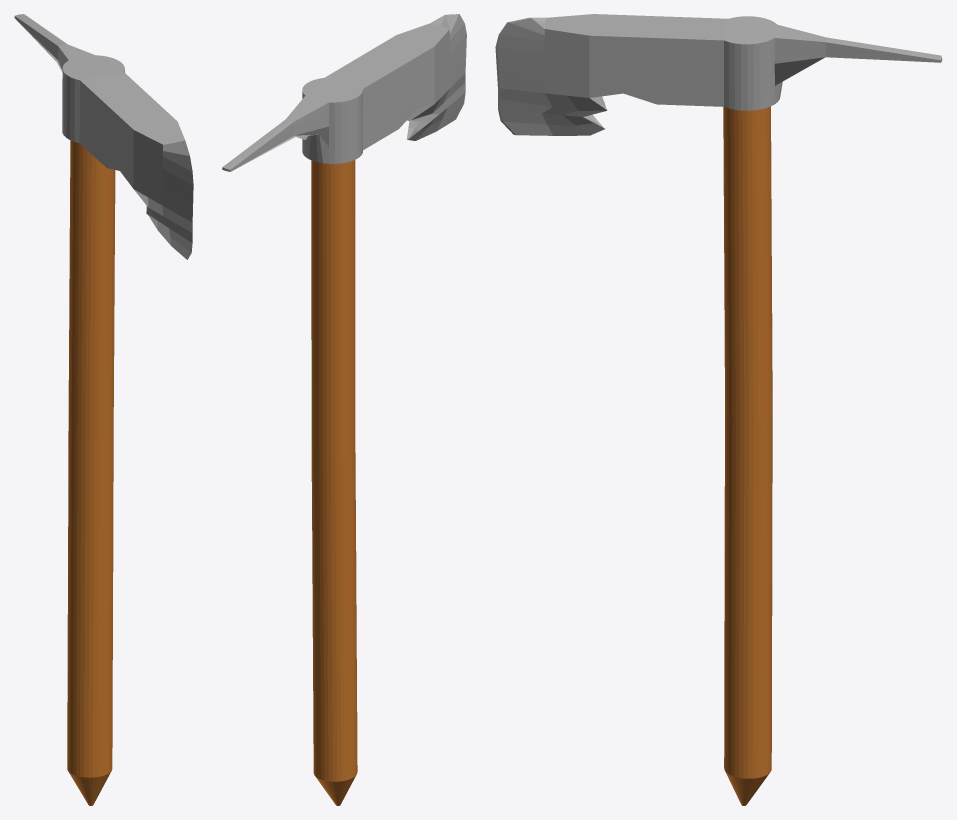
Rendered from Pirate axe.fbx.
The picture shows the model from 3 angles, left to right: view 1: azimuth 30°, elevation 25°; view 2: azimuth 150°, elevation 25°; view 3: azimuth 270°, elevation 25°; orthographic projection. The views are drawn at different scales.
Visible parts, largest first — view 1: Cylinder.001; view 2: Cylinder.001; view 3: Cylinder.001.
Boxes of the visible parts, box(x1,y1,x2,y2) form: Cylinder.001: box(14, 14, 193, 805); Cylinder.001: box(222, 14, 466, 805); Cylinder.001: box(495, 14, 942, 805).
Size of the model in its own units: 78.02 by 923 by 478.
